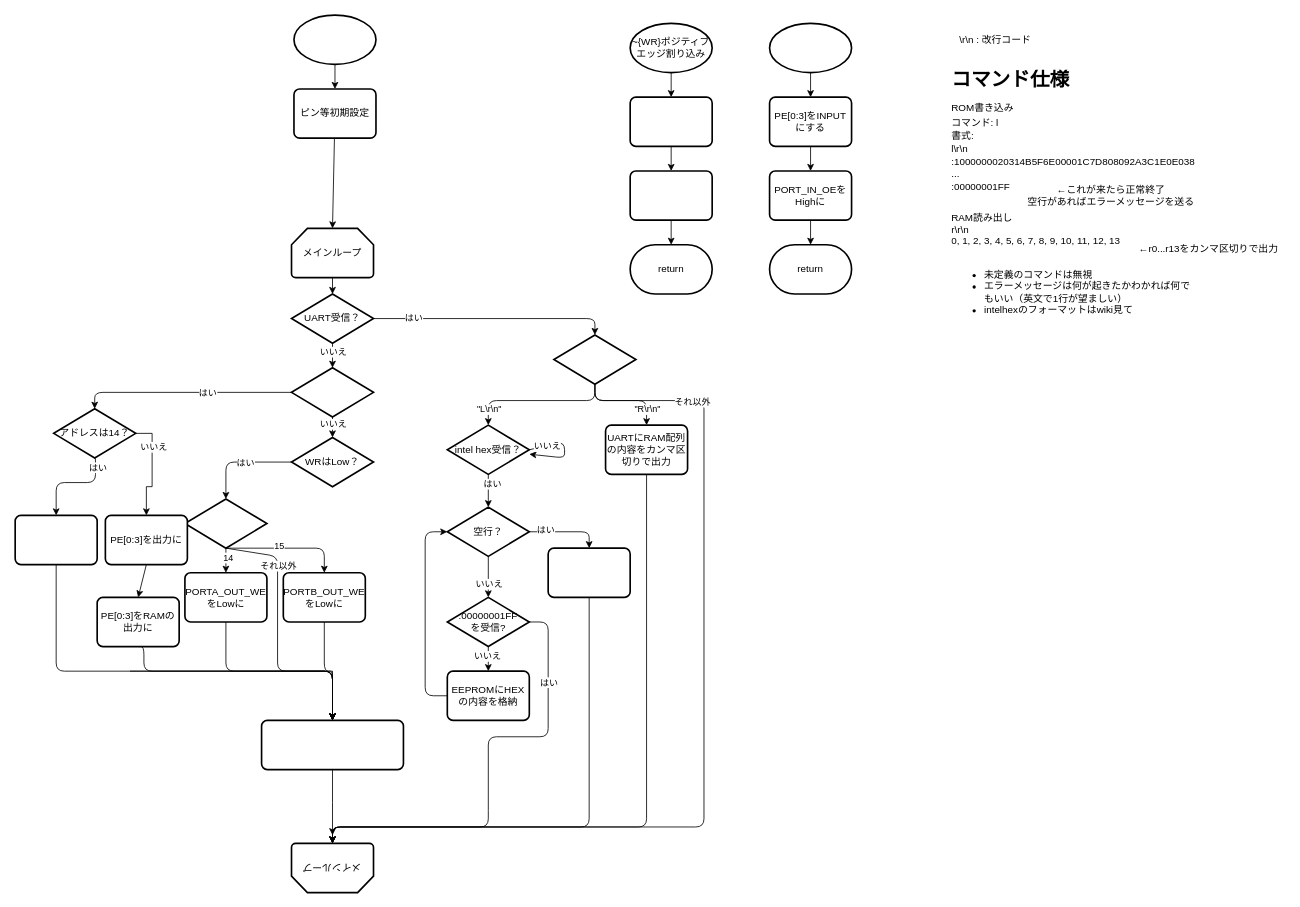
Some shapes in this 1300 by 907 pixel diagram are drawn without their labels. The centre of each missing label's shape, as x and y in pixels:
PD[0:7]をROM配列のPC[0:7](または[0:5])番目にする: (x=332, y=744)
PORT_IN_OEをLowに: (x=56, y=539)
PORTA_OUT_WE, PORTB_OUT_WEをHighに: (x=671, y=195)
RAM配列のPF[0:3]番目に PE[0:3]を書き込む: (x=671, y=121)
RDはLow？: (x=332, y=392)
Start: (x=334, y=39)
~{RD}ポジティブエッジ割り込み: (x=810, y=47)
アドレスは？: (x=225, y=523)
エラー: (x=589, y=572)
受信文字は?: (x=594, y=359)
